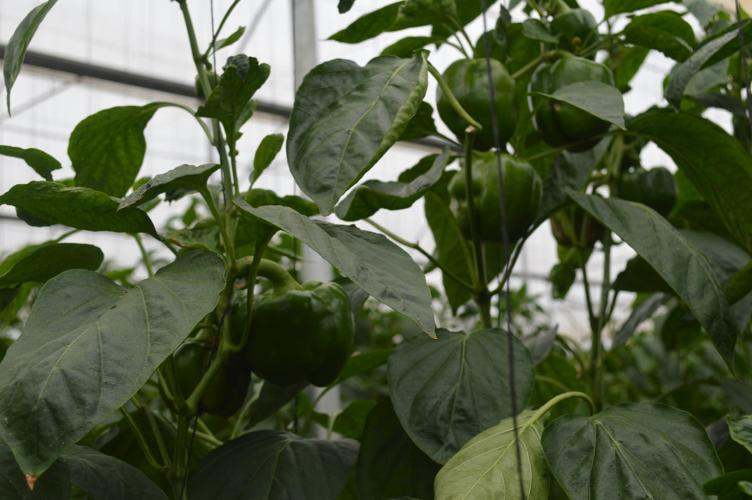BellPepper: (241, 280, 359, 381), (158, 335, 250, 438), (444, 157, 552, 237), (528, 54, 615, 151), (439, 53, 515, 137)
